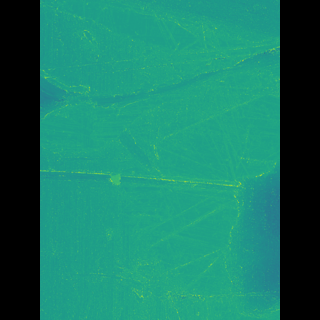Loch: (122, 37, 250, 309), (69, 0, 187, 160)
